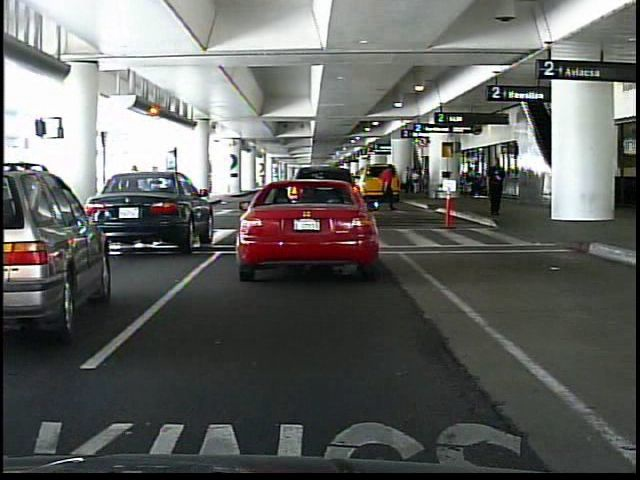person: (121, 161, 149, 235), (488, 157, 508, 219), (376, 162, 394, 218), (404, 163, 417, 199)
